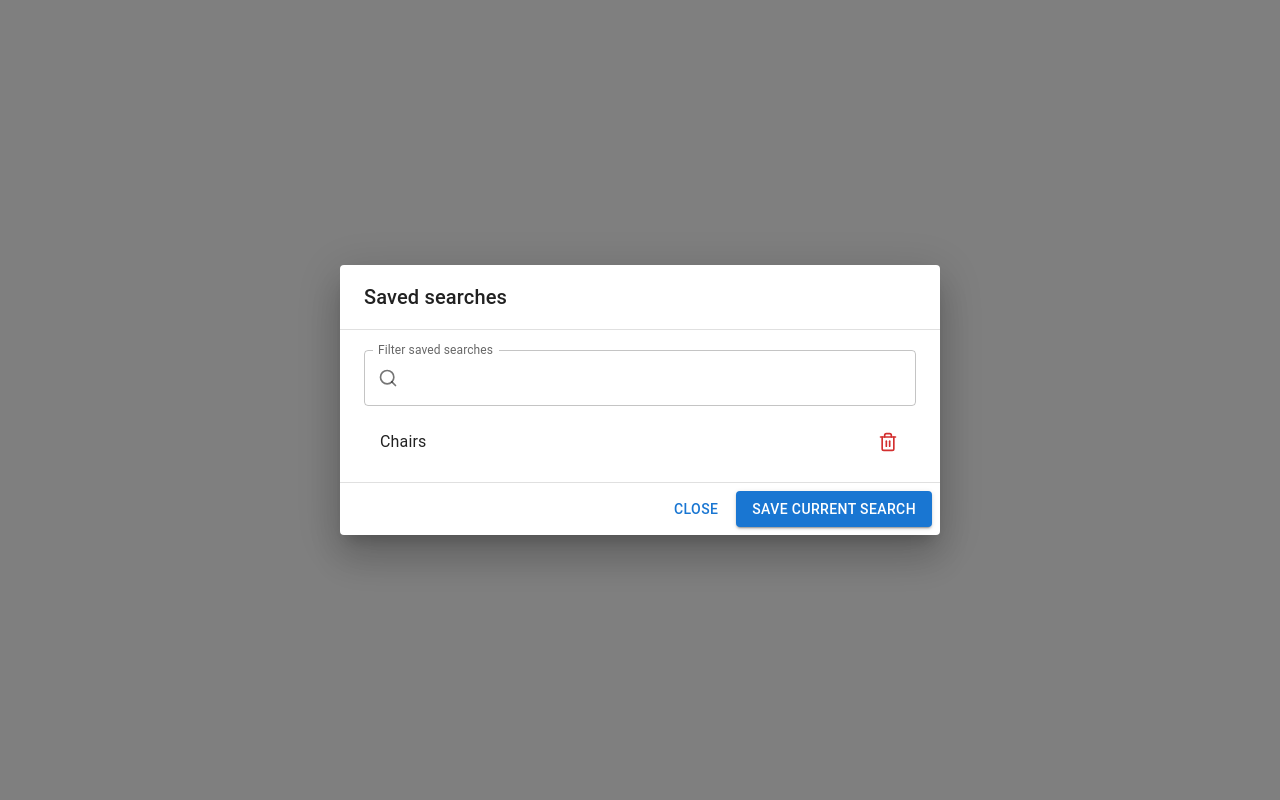
SavedSearchesDialog › asks before deleting a saved search
Click the button named "Delete saved search Chairs": [888, 442] box [873,427,903,457]
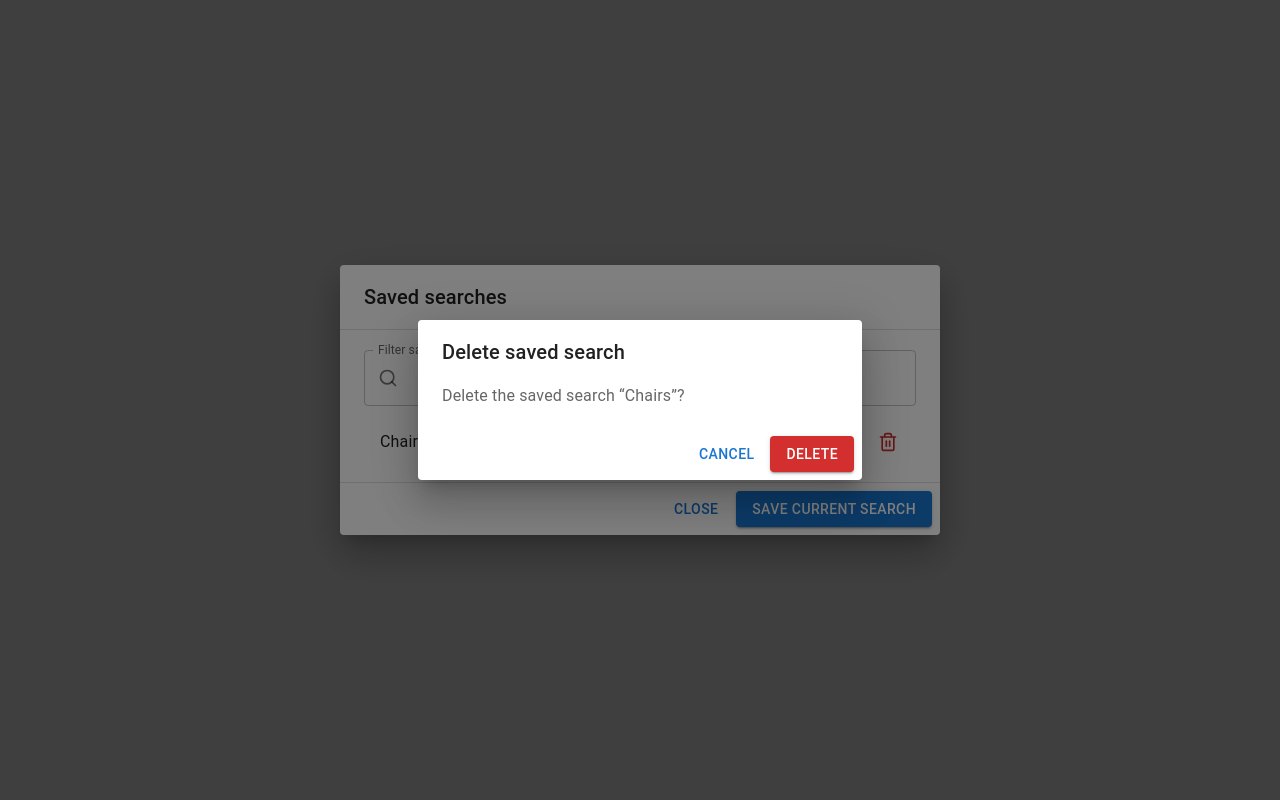
Expected: the text "Delete the saved search “Chairs”?" is shown, [442,386,685,405]
Click the button "Delete": [812, 454] box [770,436,854,472]
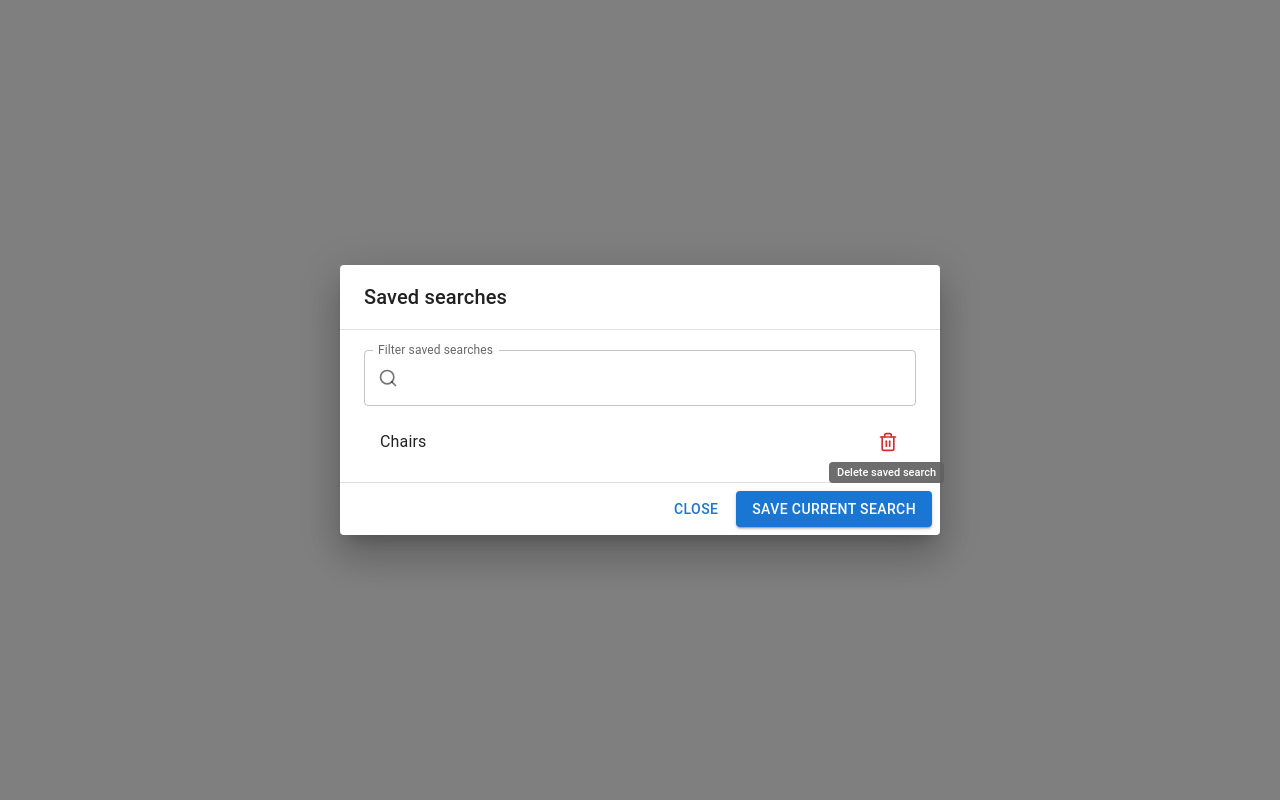
Expected: the text "Delete the saved search “Chairs”?" is gone
